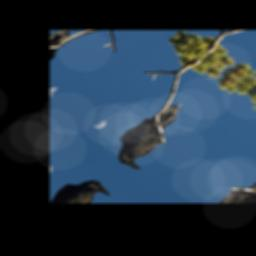Crow: (103, 94, 203, 174)
